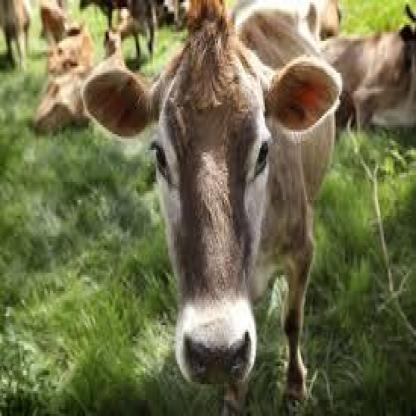cow: (84, 0, 341, 409), (313, 29, 416, 141), (33, 73, 105, 141), (46, 14, 98, 77)
